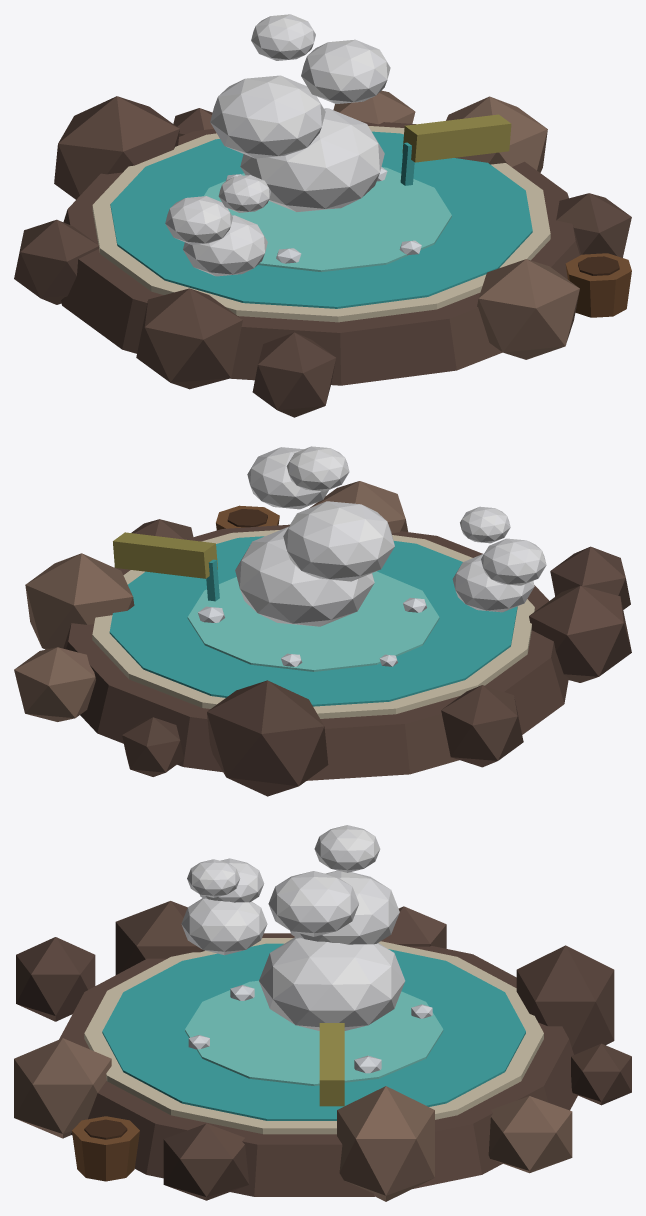
File: Decor_Volcano_HotSpring.fbx
The picture shows the model from 3 angles, top to bottom: view 1: azimuth 30°, elevation 25°; view 2: azimuth 150°, elevation 25°; view 3: azimuth 270°, elevation 25°; orthographic projection. The views are drawn at different scales.
Parts seen in each view (by area): view 1: HotSpring_Body; view 2: HotSpring_Body; view 3: HotSpring_Body.
Boxes of the visible parts, x1,y1,x2,y2 form: HotSpring_Body: (14, 14, 631, 417); HotSpring_Body: (14, 446, 631, 796); HotSpring_Body: (14, 825, 631, 1201).
Bounding box in the file's own units: 16.25 × 8 × 17.
